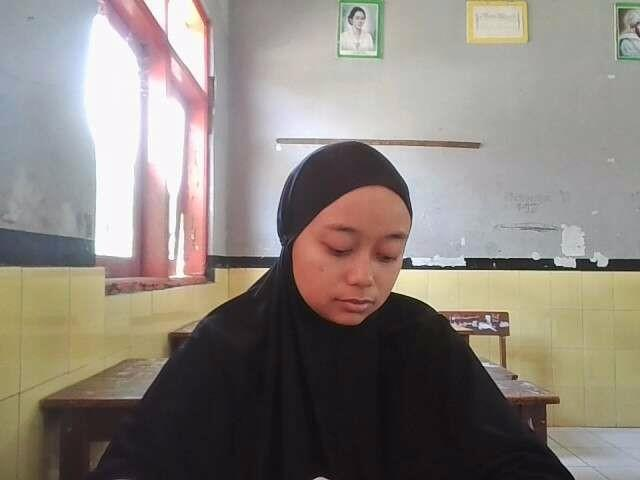good: (90, 137, 595, 480)
